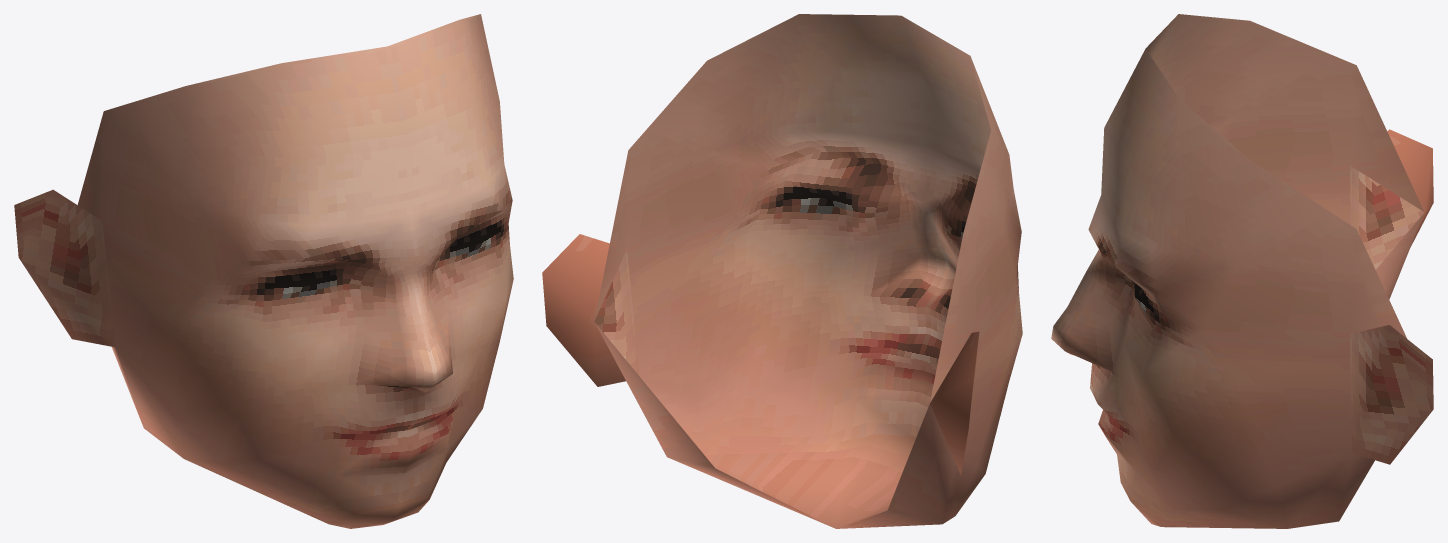
The model's file is f_hair013.glb.
The picture shows the model from 3 angles, left to right: view 1: azimuth 30°, elevation 25°; view 2: azimuth 150°, elevation 25°; view 3: azimuth 270°, elevation 25°; orthographic projection. The views are drawn at different scales.
Bounding box in the file's own units: 19.4 × 20.01 × 14.86.
1 material, 1 textured.
